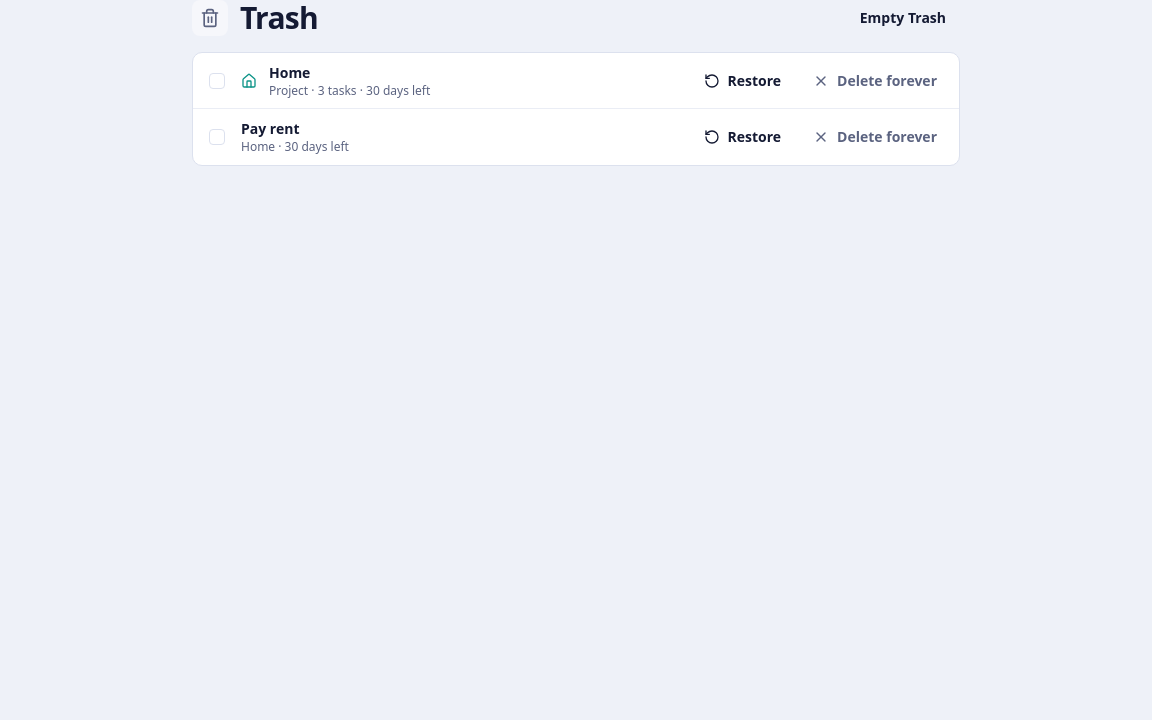
Test: The Trash › deletes a Project forever from its row once confirmed, saying its Tasks go too
Click the button with aria-label "Delete “Home” forever": (875, 80) [799,62,951,98]
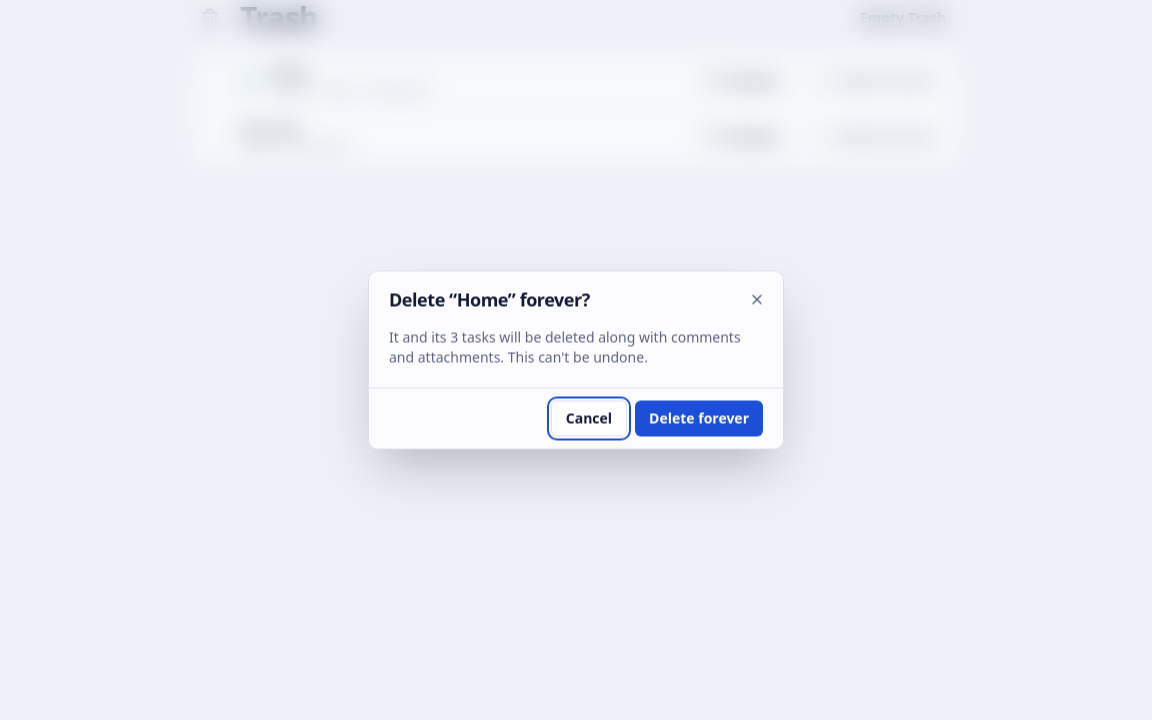
Expected: the text "It and its 3 tasks" is shown, [389,328,496,346]
Click the button "Delete forever": (699, 418) [635,400,763,436]
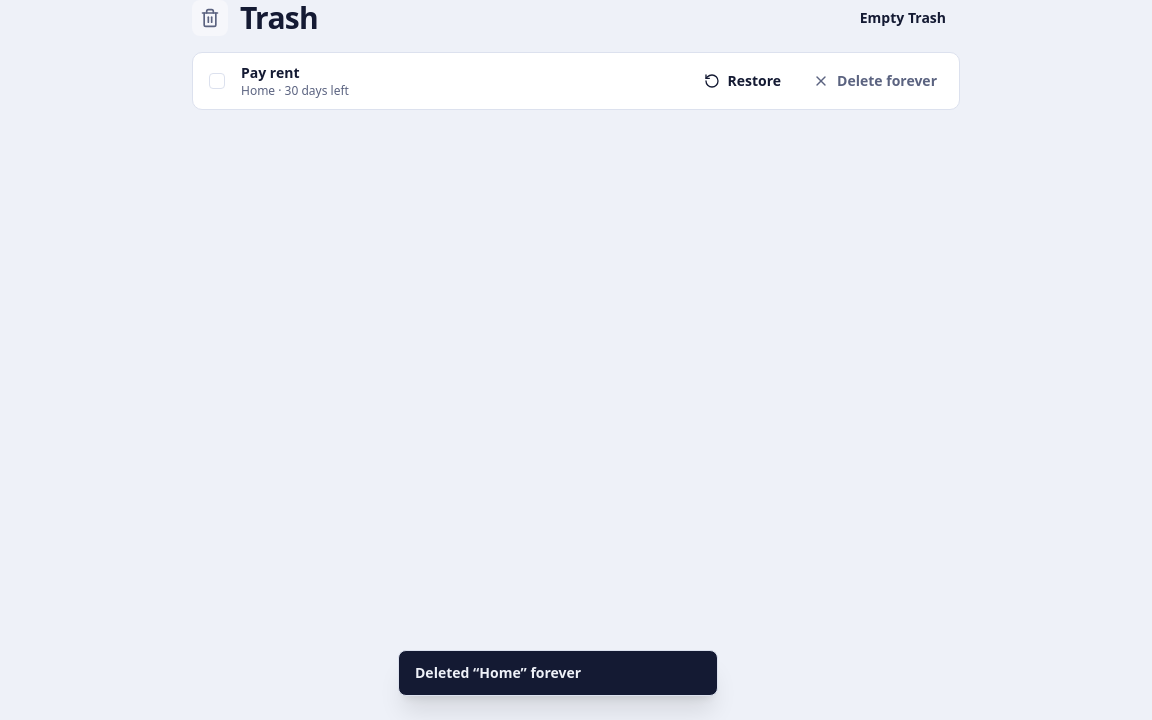
Expected: the button with aria-label "Restore “Pay rent”" is shown, [690,63,795,99]
Expected: the text "Deleted “Home” forever" is shown, [415,663,581,683]
